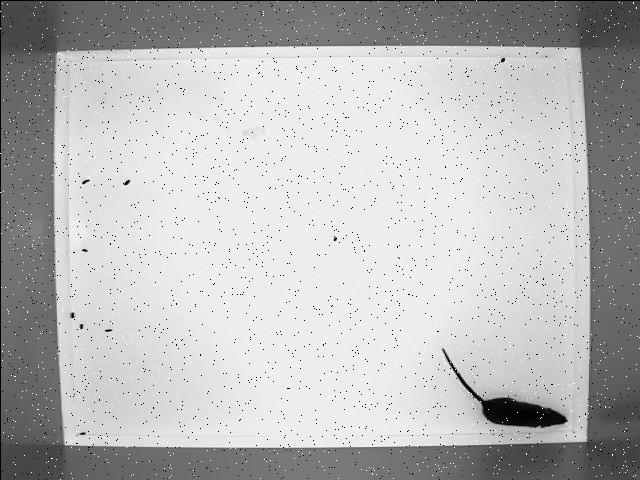Tikus: (426, 343, 570, 429)
